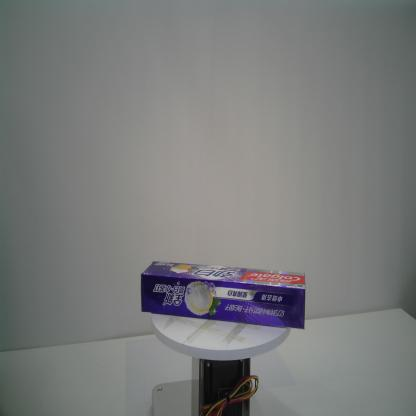Personal Hygiene: (140, 259, 307, 331)
